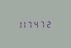four: (36, 19, 41, 27)
one: (17, 20, 22, 28), (23, 20, 28, 28)
seven: (30, 20, 35, 28), (42, 19, 47, 27)
two: (48, 19, 53, 27)
